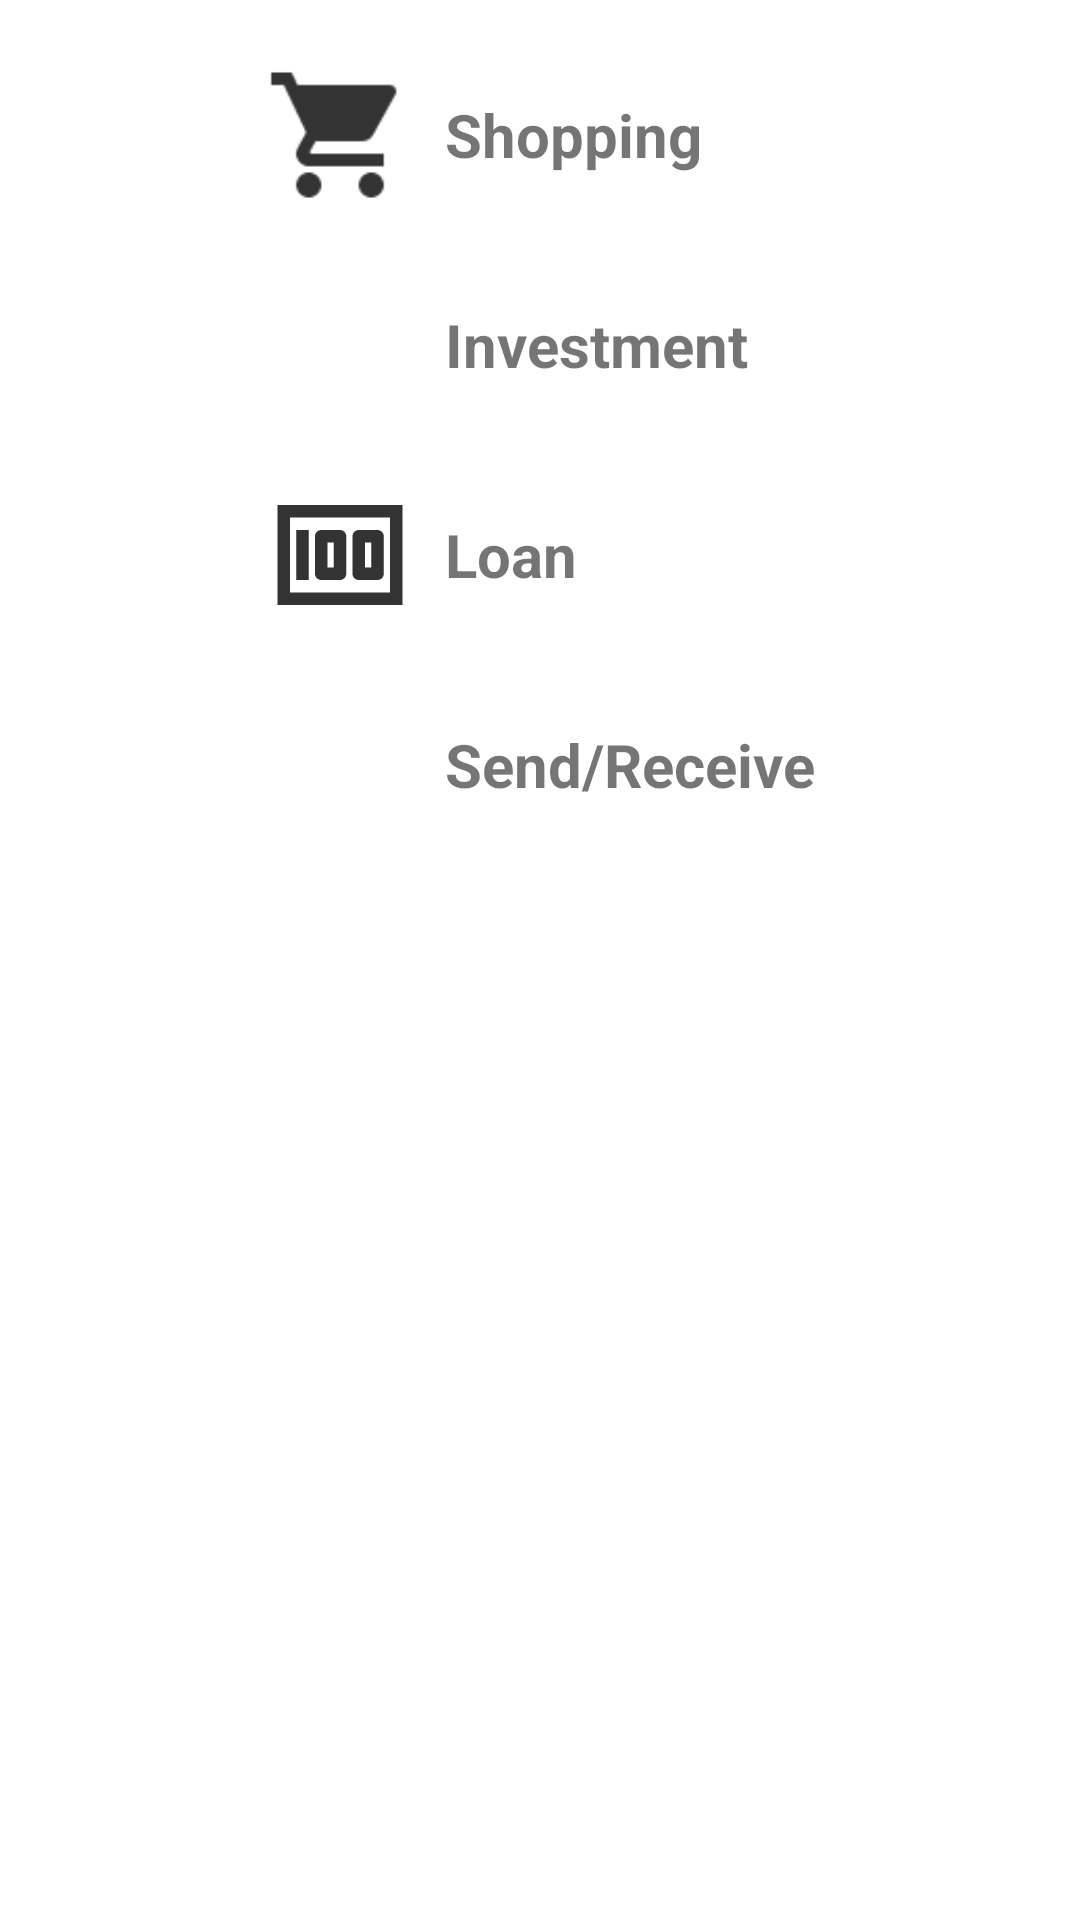

Named icons in this screenshot (1080px×1920px) and their bounding boxes, (x1, y1, x2, y2):
cart: (270, 72, 397, 198)
